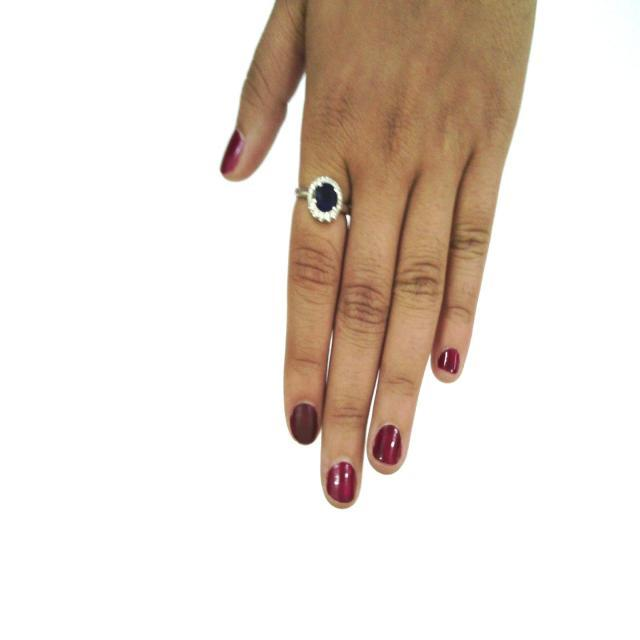Fingernail: (327, 462, 355, 503), (373, 425, 401, 465), (291, 405, 318, 446), (221, 132, 243, 174), (438, 350, 459, 373)
